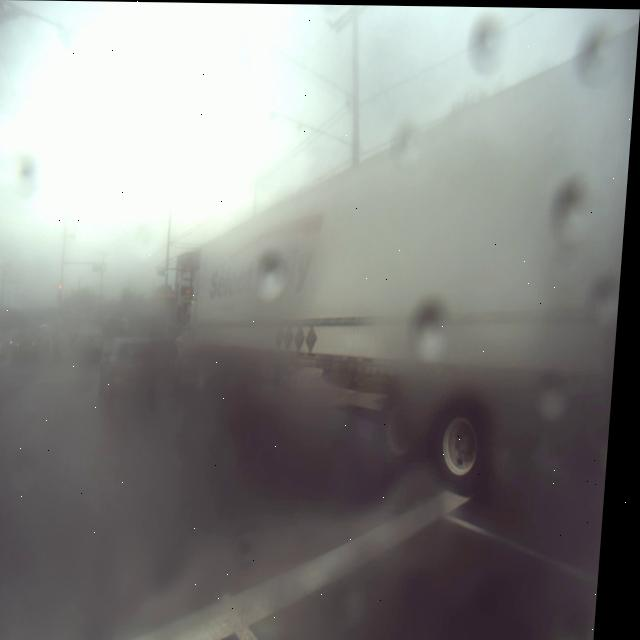car: (106, 330, 162, 405)
